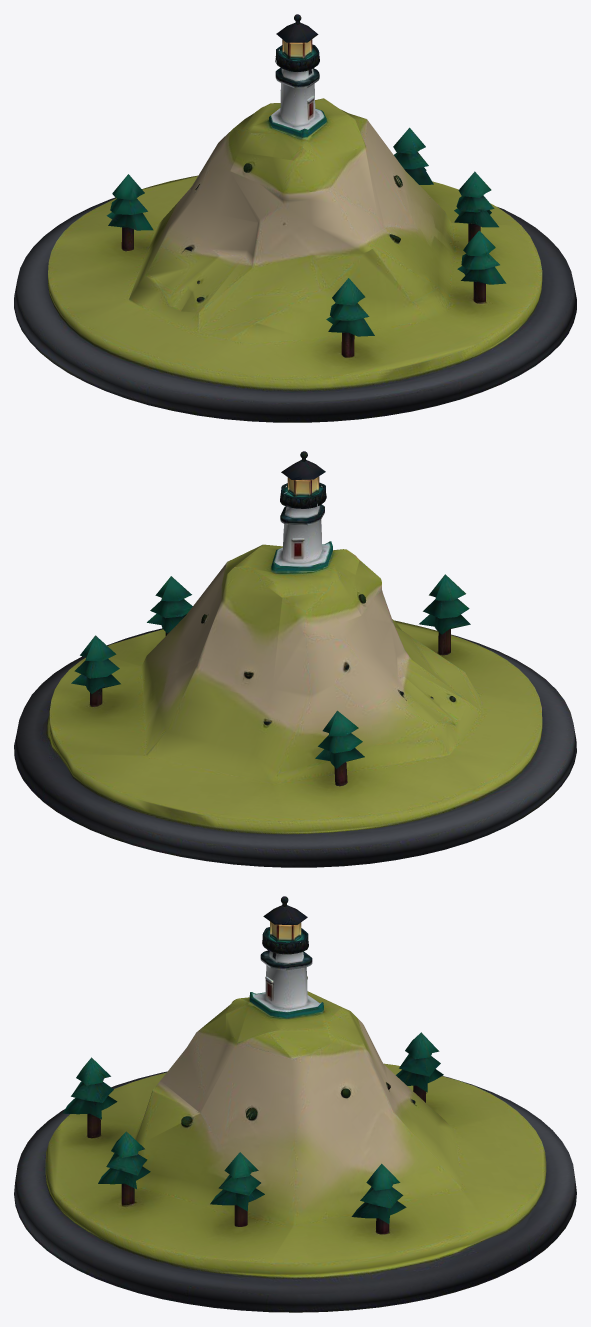
File: lighthouse.glb
The picture shows the model from 3 angles, top to bottom: view 1: azimuth 30°, elevation 25°; view 2: azimuth 150°, elevation 25°; view 3: azimuth 270°, elevation 25°; orthographic projection.
Parts seen in each view (by area): view 1: cae56467_7c3d_4b3b_94aa_3ca4e5e0fe7a; view 2: cae56467_7c3d_4b3b_94aa_3ca4e5e0fe7a; view 3: cae56467_7c3d_4b3b_94aa_3ca4e5e0fe7a.
Boxes of the visible parts, x1,y1,x2,y2 form: cae56467_7c3d_4b3b_94aa_3ca4e5e0fe7a: [14, 14, 576, 422]; cae56467_7c3d_4b3b_94aa_3ca4e5e0fe7a: [14, 451, 576, 867]; cae56467_7c3d_4b3b_94aa_3ca4e5e0fe7a: [14, 896, 576, 1312].
Size of the model in its own units: 0.9995 by 0.5786 by 0.9995.
Materials: 1 (1 with a texture image).
